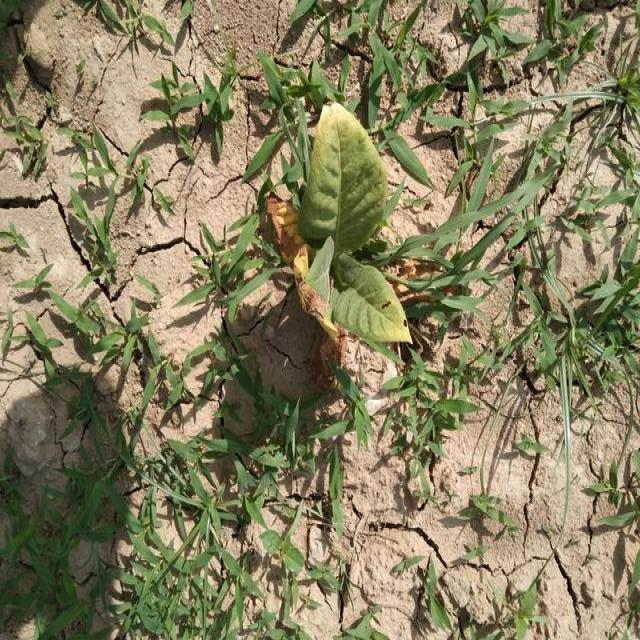crop: (289, 85, 421, 363)
